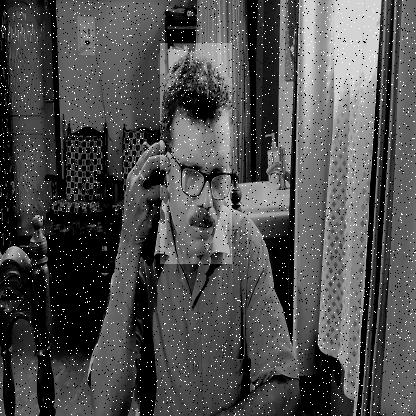Distracted: (160, 43, 232, 264)
